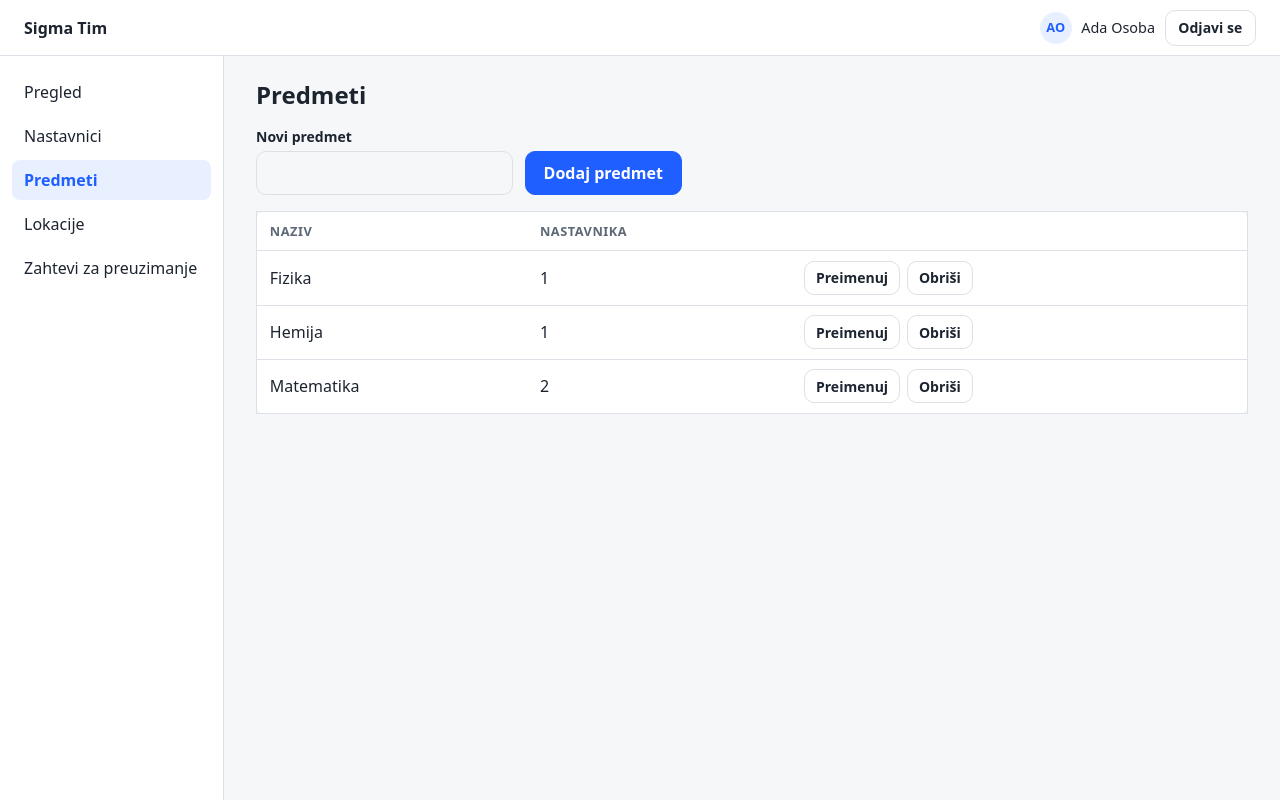
Test: subjects › adds a subject and shows it
Type "  Srpski jezik " into the field labelled "Novi predmet" at (384, 173), box [256,151,513,195]
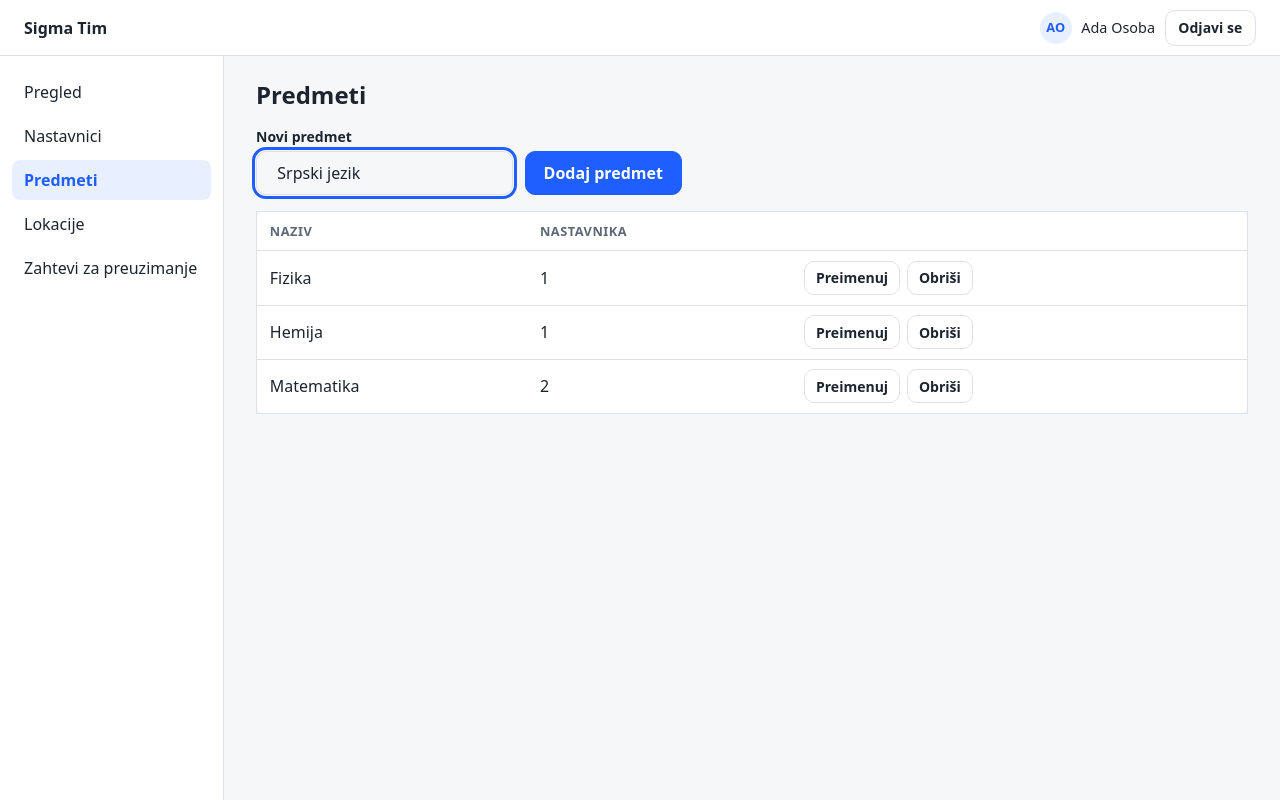
Click the button "Dodaj predmet" at (603, 173), box [525,151,682,195]
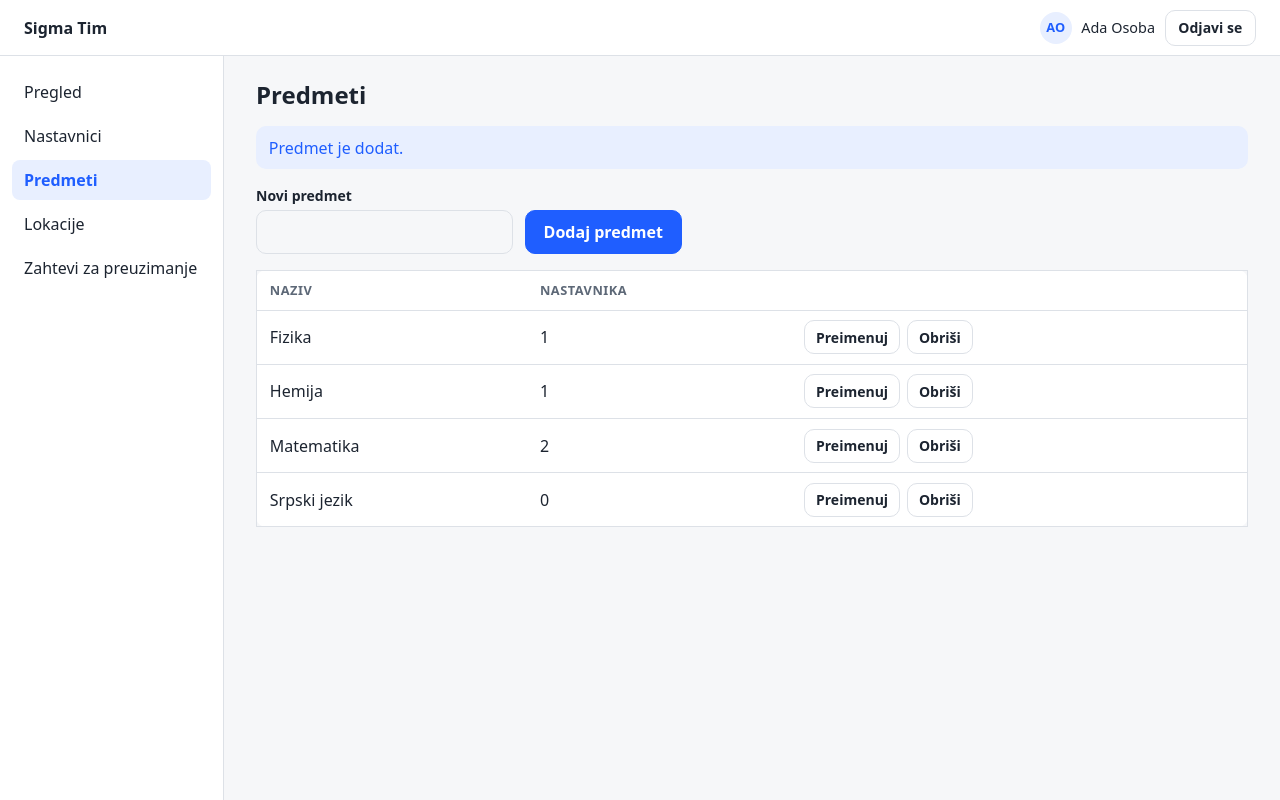
Check: the row "Srpski jezik 0 Preimenuj Obriši" is shown, box [256,473,1248,527]
Check: the field labelled "Novi predmet" is empty, box [256,210,513,254]
